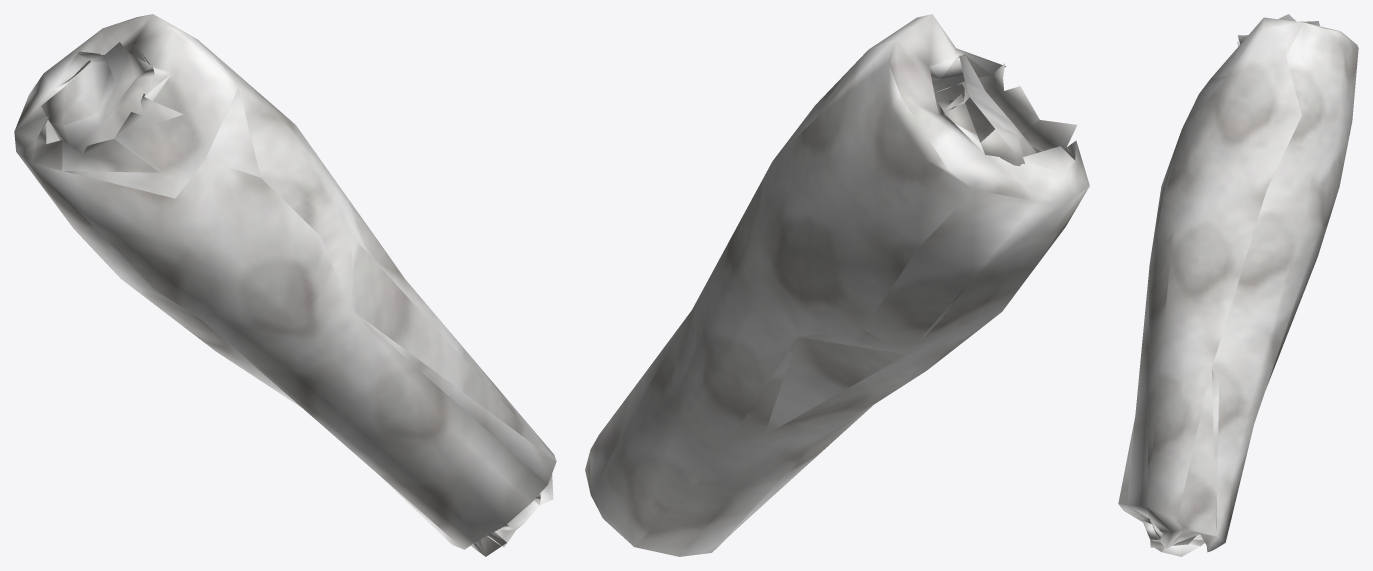
The model's file is left_lowerarm.glb.
3 views of the same model, side by side, from view 1: azimuth 30°, elevation 25°; view 2: azimuth 150°, elevation 25°; view 3: azimuth 270°, elevation 25° (orthographic). The views are drawn at different scales.
Visible parts, largest first — view 1: left_lowerarm; view 2: left_lowerarm; view 3: left_lowerarm.
Part boxes in pixels (x1,y1,x2,y2): left_lowerarm: (14, 14, 556, 556); left_lowerarm: (585, 14, 1089, 556); left_lowerarm: (1118, 14, 1358, 556).
Size of the model in its own units: 0.1833 by 0.2051 by 0.1018.
1 material, 1 textured.
